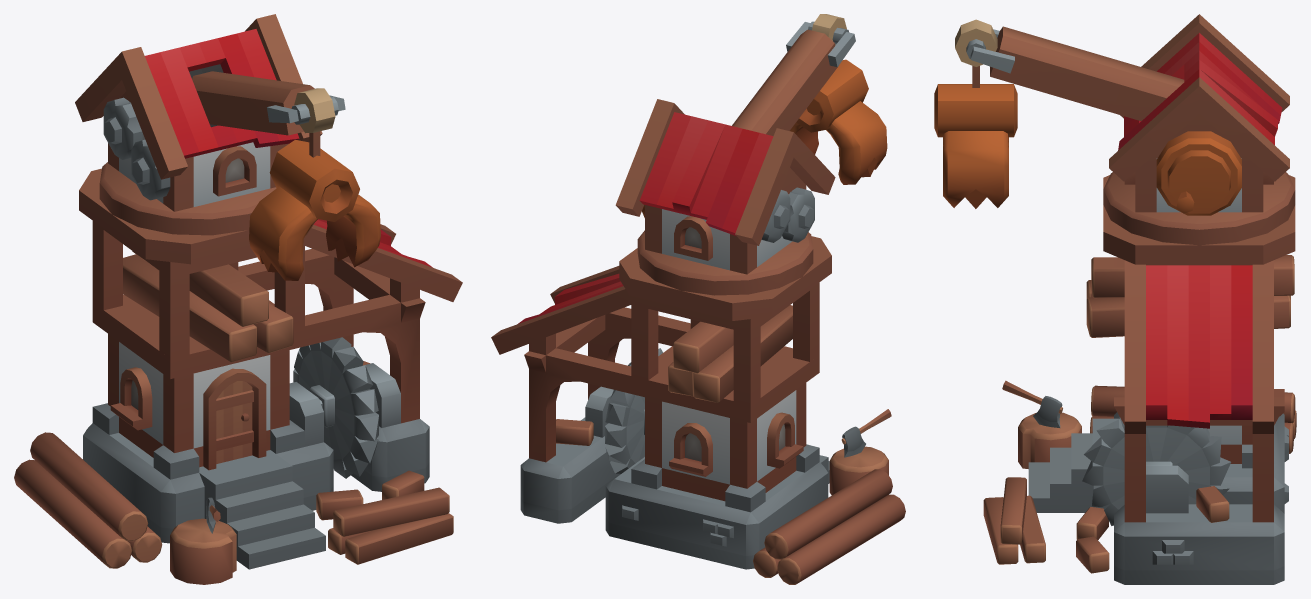
Rendered from lumbermill.glb.
The picture shows the model from 3 angles, left to right: view 1: azimuth 30°, elevation 25°; view 2: azimuth 150°, elevation 25°; view 3: azimuth 270°, elevation 25°; orthographic projection. The views are drawn at different scales.
Visible parts, largest first — view 1: building_lumbermill_red, building_lumbermill_top_red, building_lumbermill_saw_red; view 2: building_lumbermill_red, building_lumbermill_top_red, building_lumbermill_saw_red; view 3: building_lumbermill_red, building_lumbermill_top_red, building_lumbermill_saw_red.
Boxes of the visible parts, x1=… form: building_lumbermill_red: x1=14, y1=168, x2=462, y2=584; building_lumbermill_top_red: x1=75, y1=14, x2=380, y2=280; building_lumbermill_saw_red: x1=293, y1=337, x2=378, y2=478; building_lumbermill_red: x1=491, y1=236, x2=905, y2=584; building_lumbermill_top_red: x1=615, y1=14, x2=887, y2=295; building_lumbermill_saw_red: x1=605, y1=348, x2=662, y2=474; building_lumbermill_red: x1=983, y1=175, x2=1296, y2=584; building_lumbermill_top_red: x1=934, y1=14, x2=1295, y2=245; building_lumbermill_saw_red: x1=1082, y1=417, x2=1231, y2=525.
Bounding box in the file's own units: 1.37 × 1.71 × 1.19.
